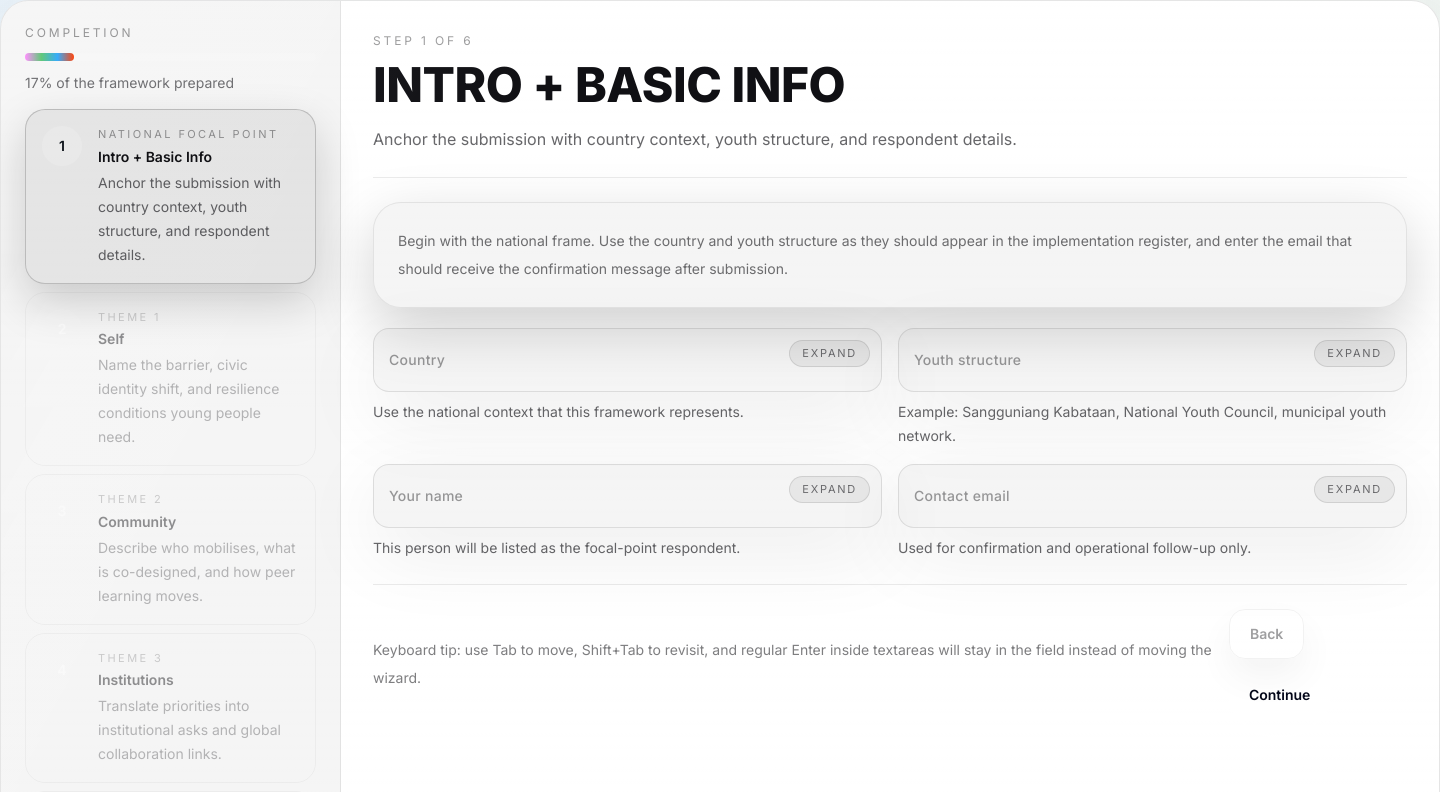
Test: SubmissionWizard › blocks progression until the current step is valid
What coordinates should you click on to do the following:
click the button "Continue"
I would click on:
 (1280, 695)
Its box is 1229,671 -> 1330,719.
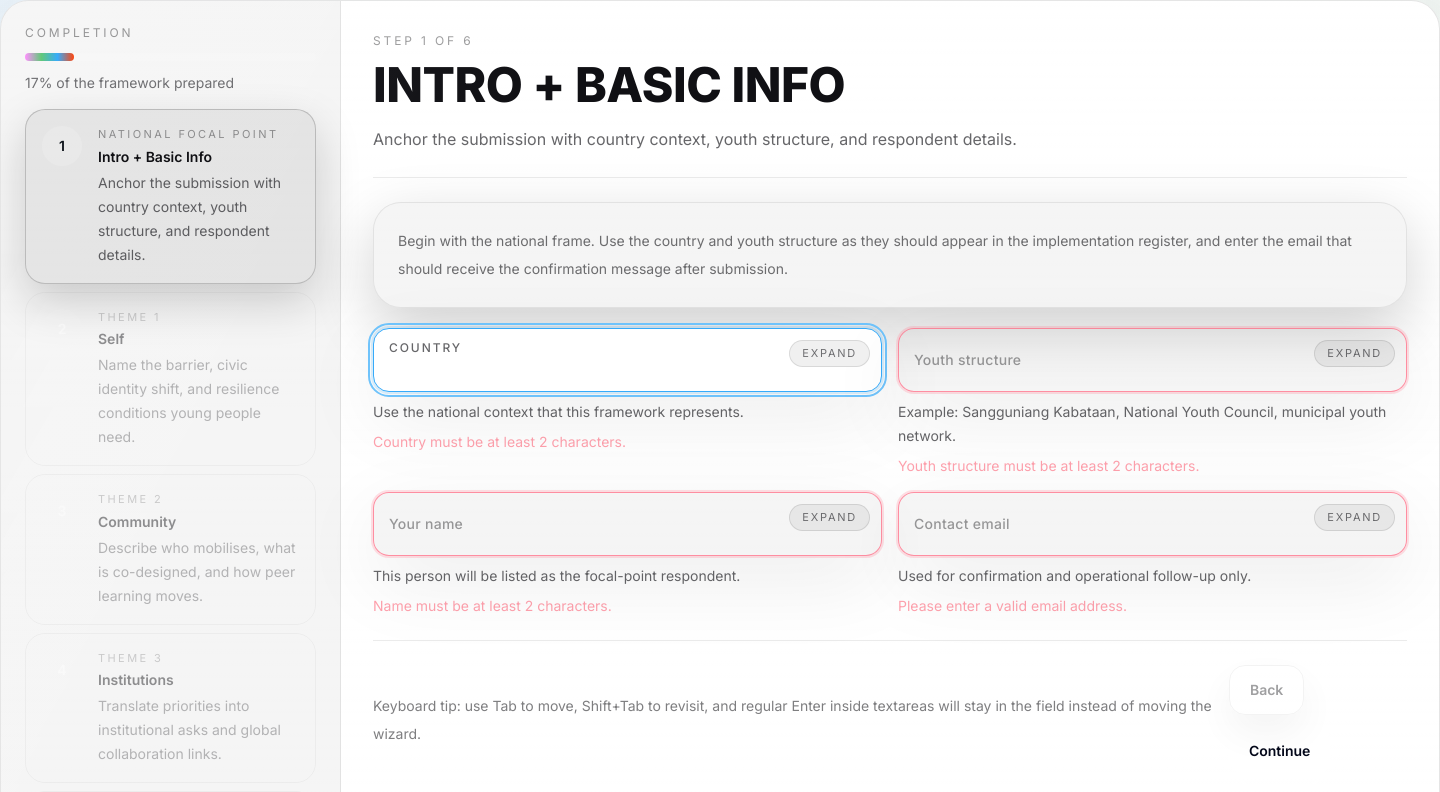
Now the text "Country must be at least 2 characters." is shown, box 373,433 -> 626,450
